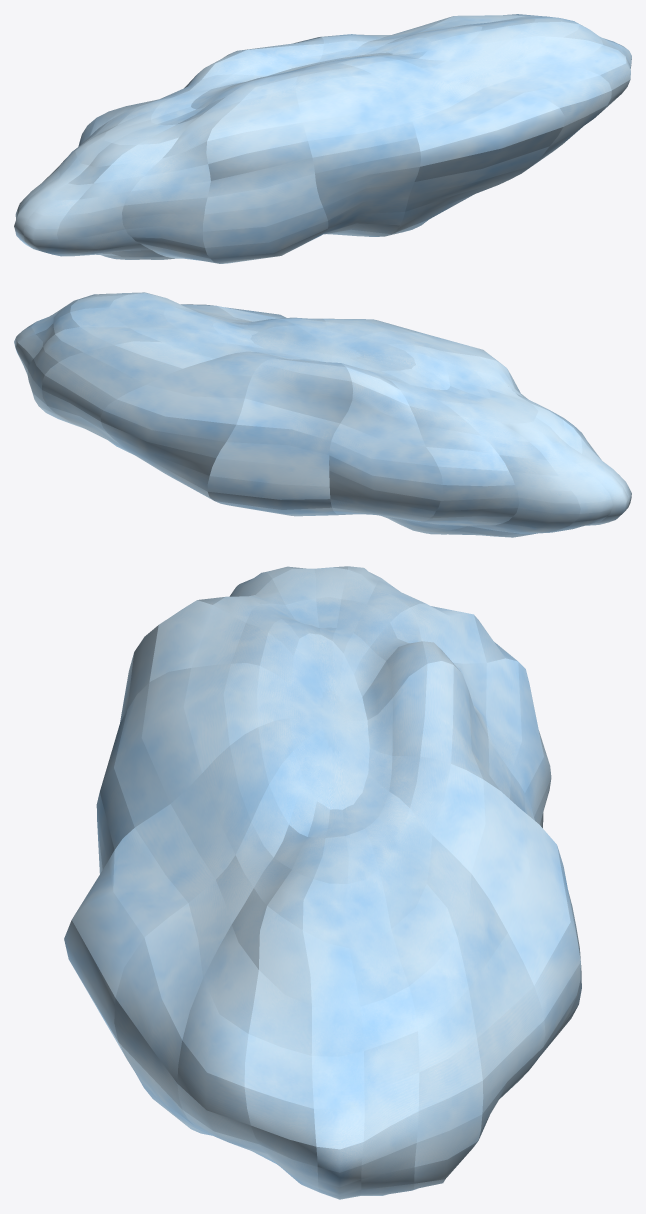
File: cloud2_anim.fbx
3 views of the same model, one above another, from view 1: azimuth 30°, elevation 25°; view 2: azimuth 150°, elevation 25°; view 3: azimuth 270°, elevation 25° (orthographic). The views are drawn at different scales.
Visible parts, largest first — view 1: pSphere2; view 2: pSphere2; view 3: pSphere2.
Boxes of the visible parts, x1,y1,x2,y2 form: pSphere2: (14, 14, 631, 263); pSphere2: (14, 292, 631, 537); pSphere2: (64, 566, 581, 1199).
Bounding box in the file's own units: 11318 × 3125 × 4172.
Materials: 1 (1 with a texture image).
